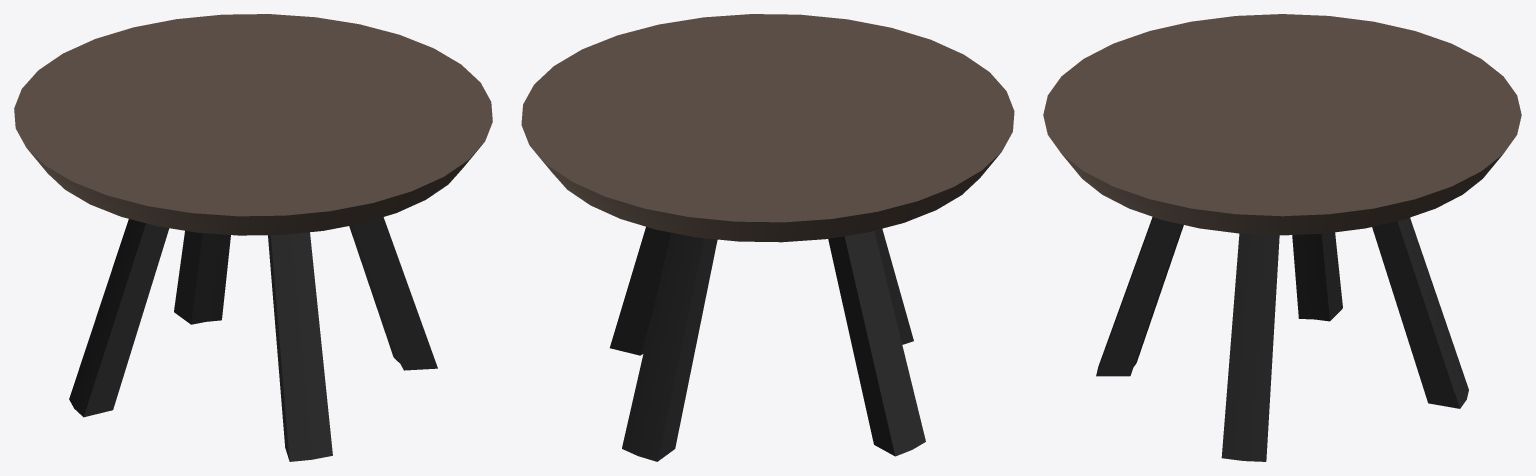
The model's file is TableRonde_20.fbx.
3 renders of one model, left to right at view 1: azimuth 30°, elevation 25°; view 2: azimuth 150°, elevation 25°; view 3: azimuth 270°, elevation 25°, orthographic. The views are drawn at different scales.
Parts seen in each view (by area): view 1: pCylinder1777; view 2: pCylinder1777; view 3: pCylinder1777.
Boxes of the visible parts, x1,y1,x2,y2 form: pCylinder1777: (14, 14, 492, 461); pCylinder1777: (521, 14, 1014, 461); pCylinder1777: (1043, 14, 1521, 461).
Size of the model in its own units: 44.11 by 27.26 by 44.11.
